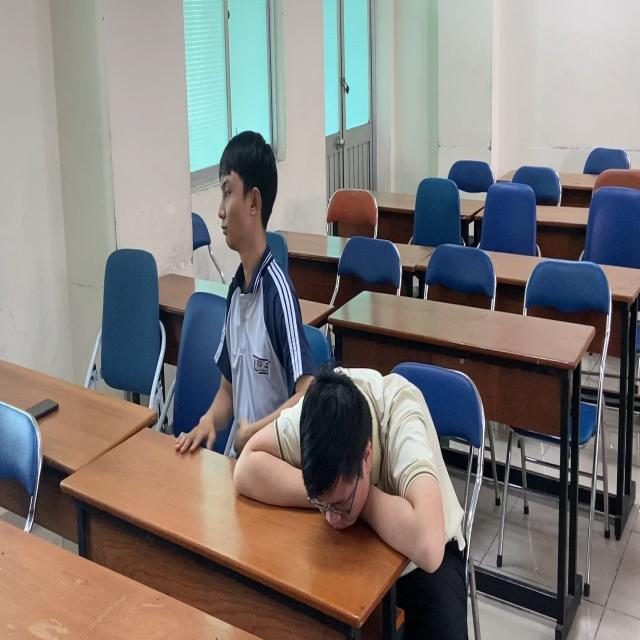sleep: (230, 361, 458, 577)
